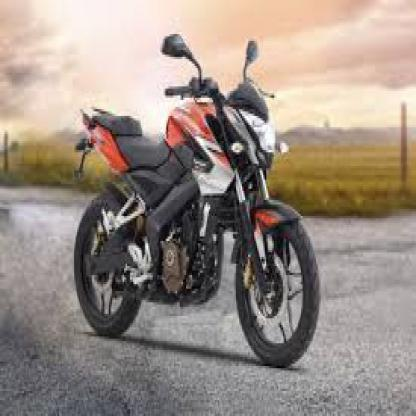Motorcycle: (64, 28, 324, 369)
